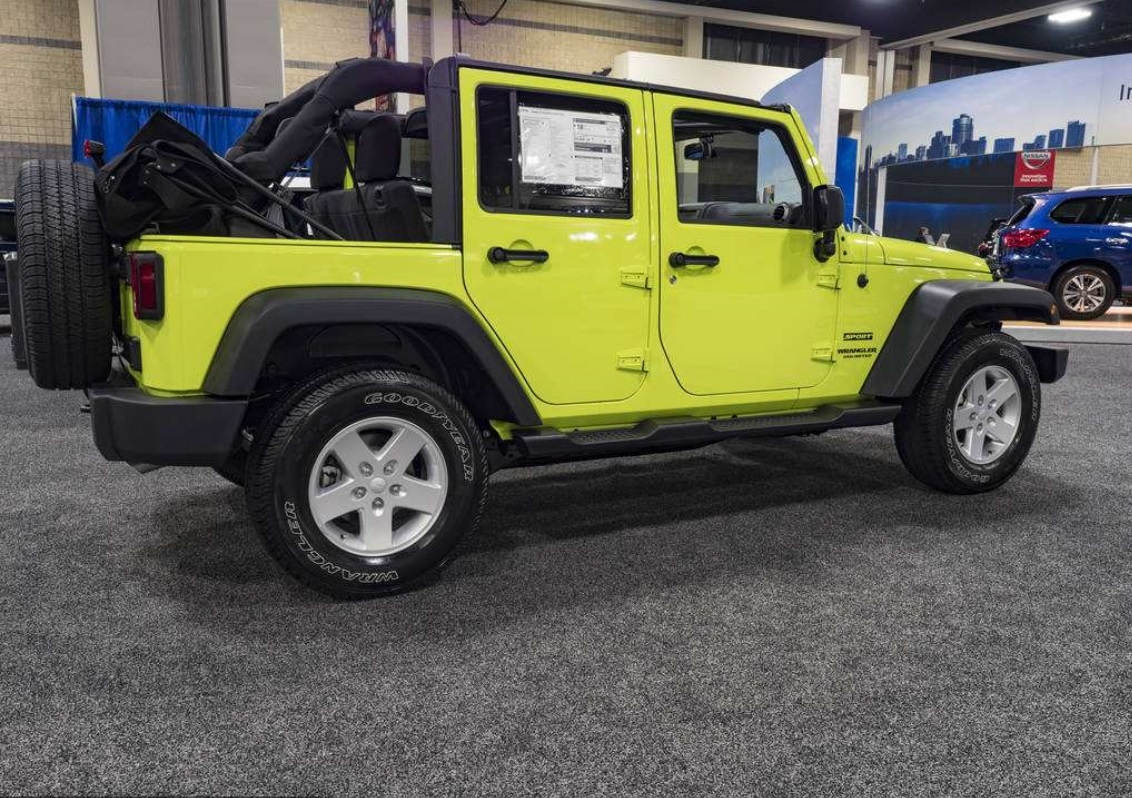jeep: (37, 31, 1019, 599)
